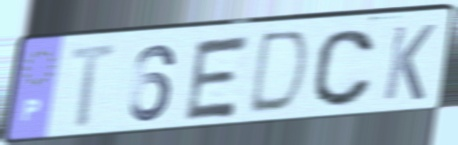6: (127, 42, 177, 124)
C: (309, 27, 378, 110)
D: (244, 27, 313, 118)
E: (180, 32, 255, 124)
K: (380, 22, 438, 103)
T: (65, 41, 124, 134)
